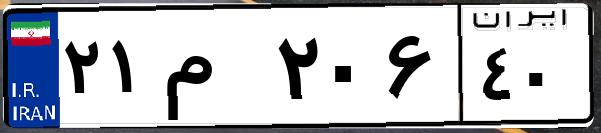0: (330, 28, 385, 110), (525, 38, 570, 115)
1: (110, 28, 158, 98)
2: (270, 28, 330, 110), (57, 26, 110, 100)
4: (475, 38, 525, 113)
6: (385, 28, 445, 110)
م: (158, 20, 270, 120)
